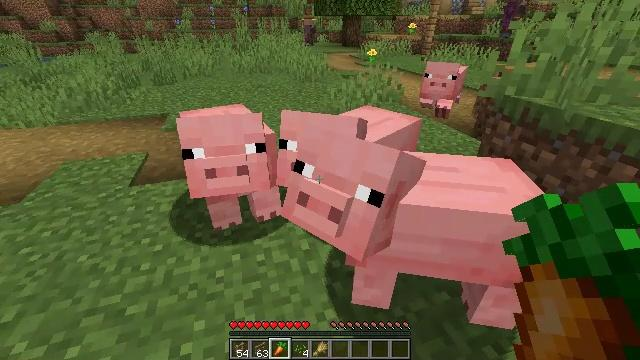pig: (297, 156, 544, 311), (277, 103, 418, 189), (178, 104, 280, 220), (423, 61, 464, 114)
